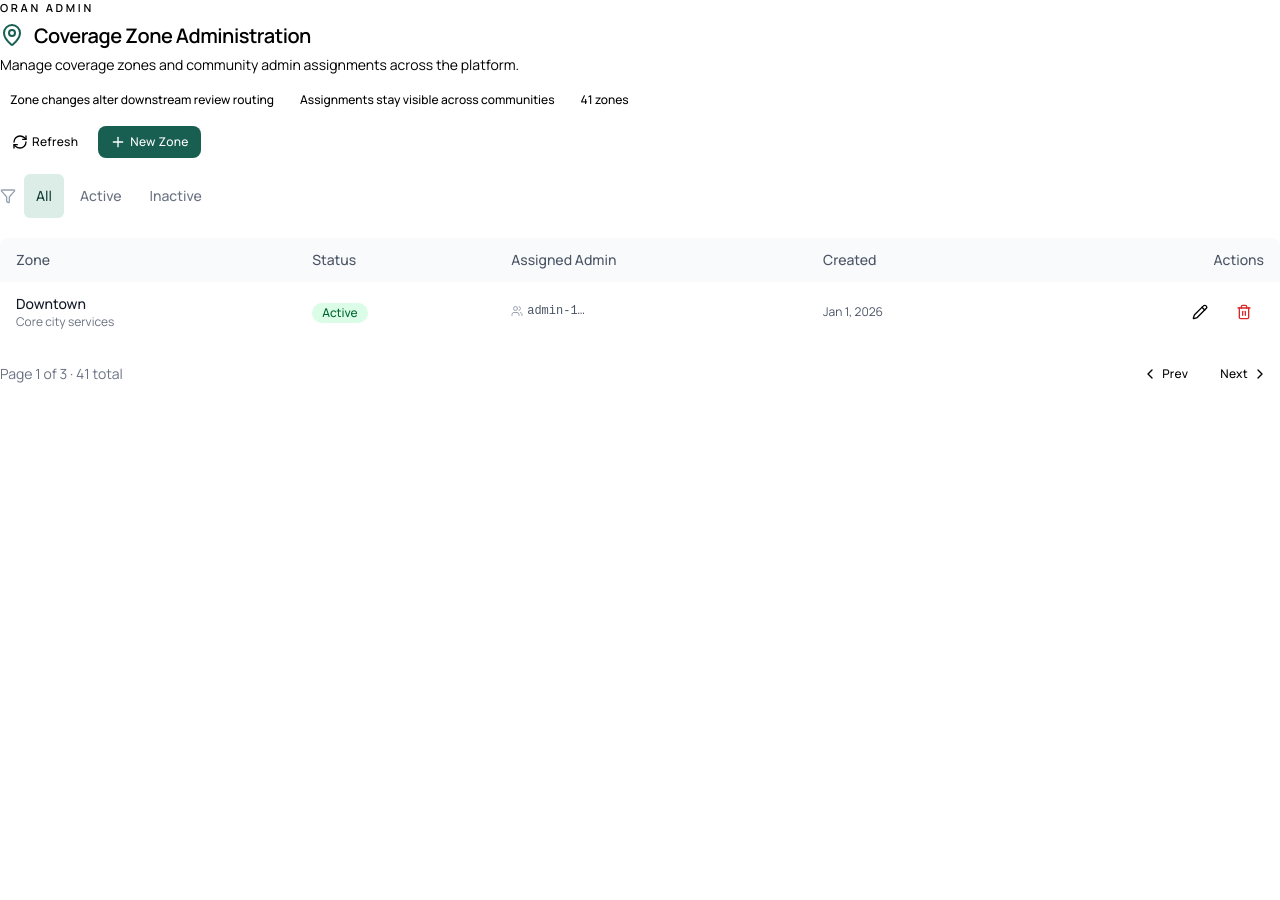
Test: oran admin zone management page › paginates results and refreshes after successful deletion
The image size is (1280, 900).
Expected: the text "Downtown" is shown, [16, 294, 86, 313]
Click the button "Next" at (1244, 374), box [1208, 358, 1279, 390]
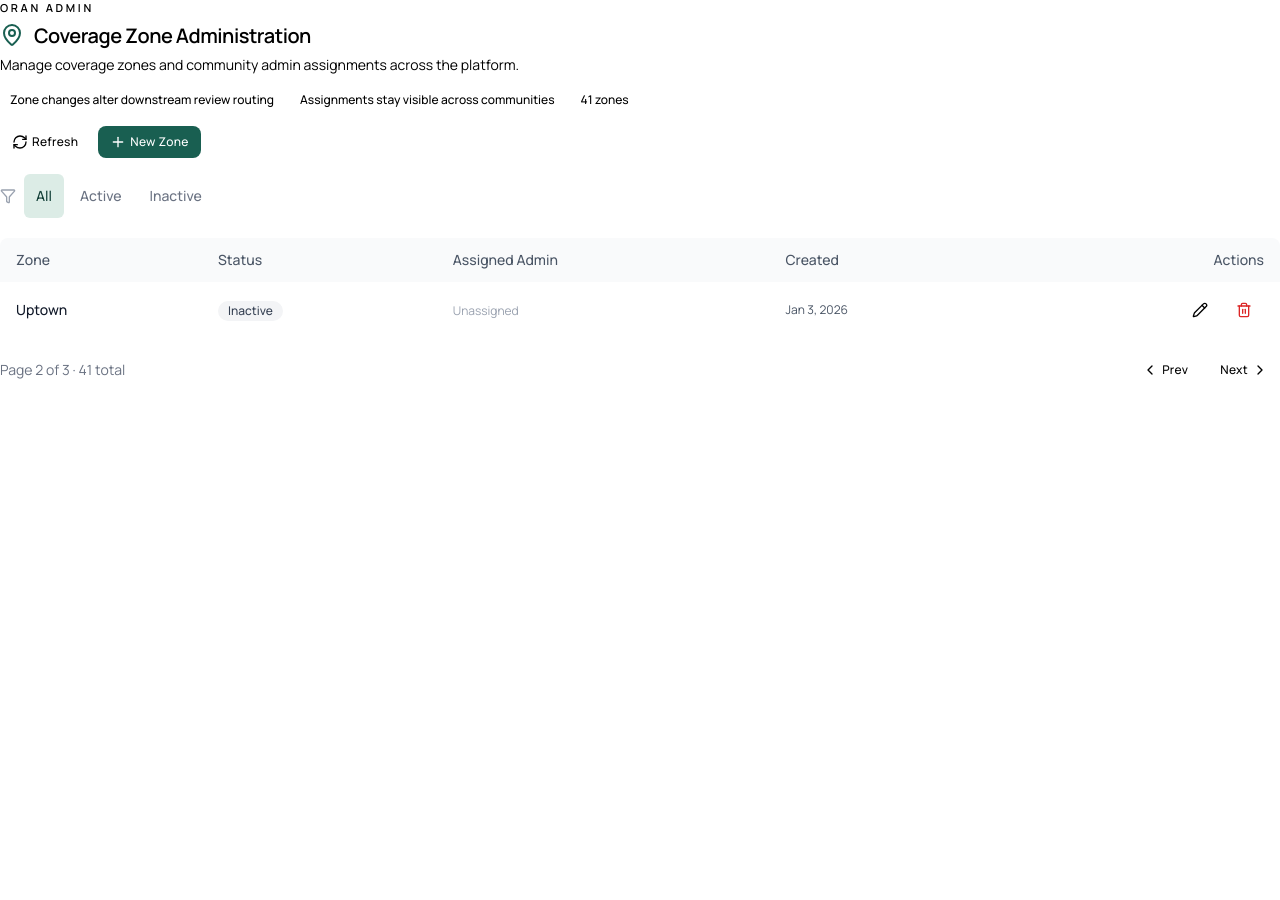
Result: the text "Uptown" is shown at [16, 300, 67, 319]
Click the button "Prev" at (1165, 370), box [1130, 354, 1200, 386]
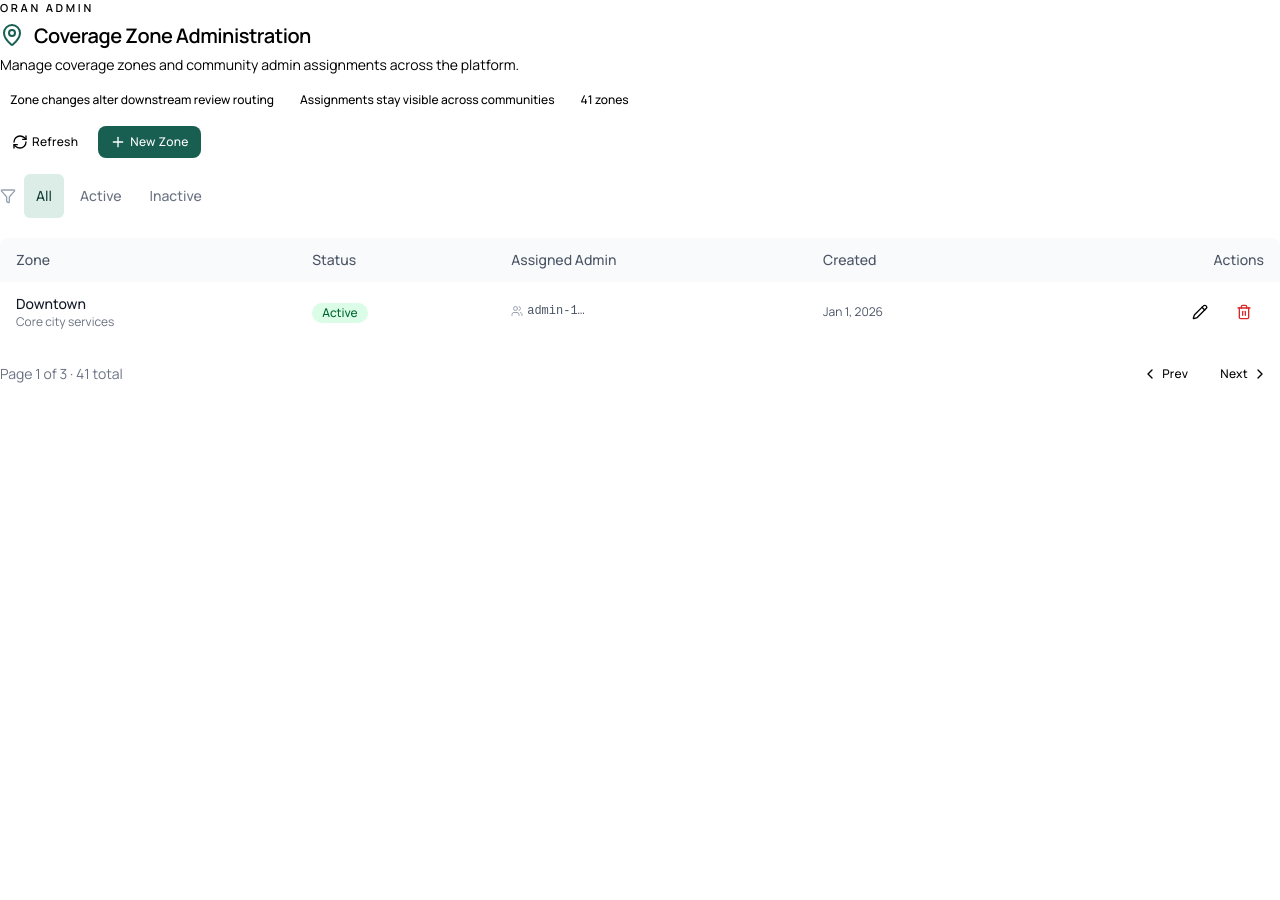
Result: the text "Downtown" is shown at [16, 294, 86, 313]
Click the button named "Delete Downtown" at (1244, 312), box [1224, 296, 1264, 328]
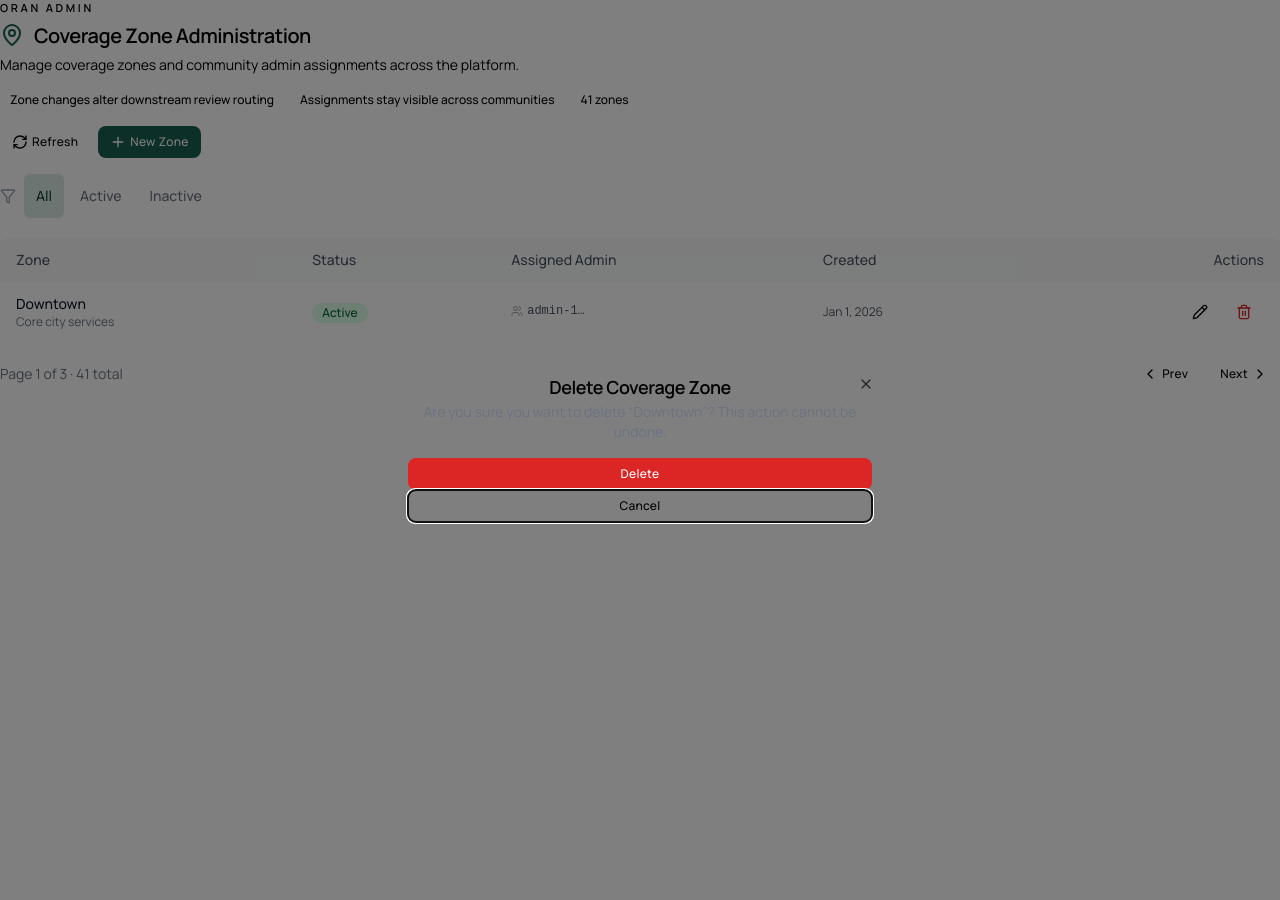
Click the button "Delete" at (640, 474), box [408, 458, 872, 490]
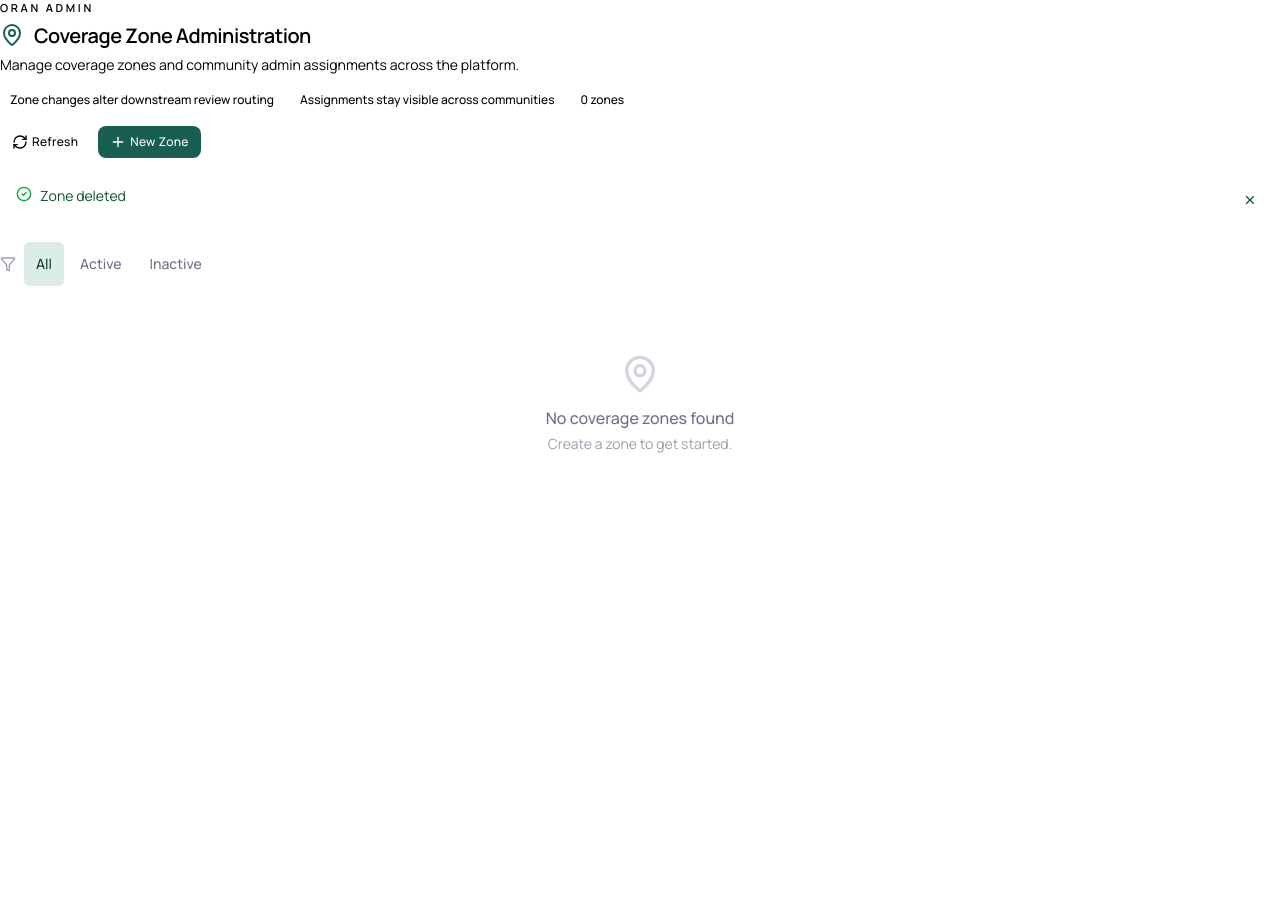
Result: the message reads "Zone deleted" at [40, 186, 126, 205]
